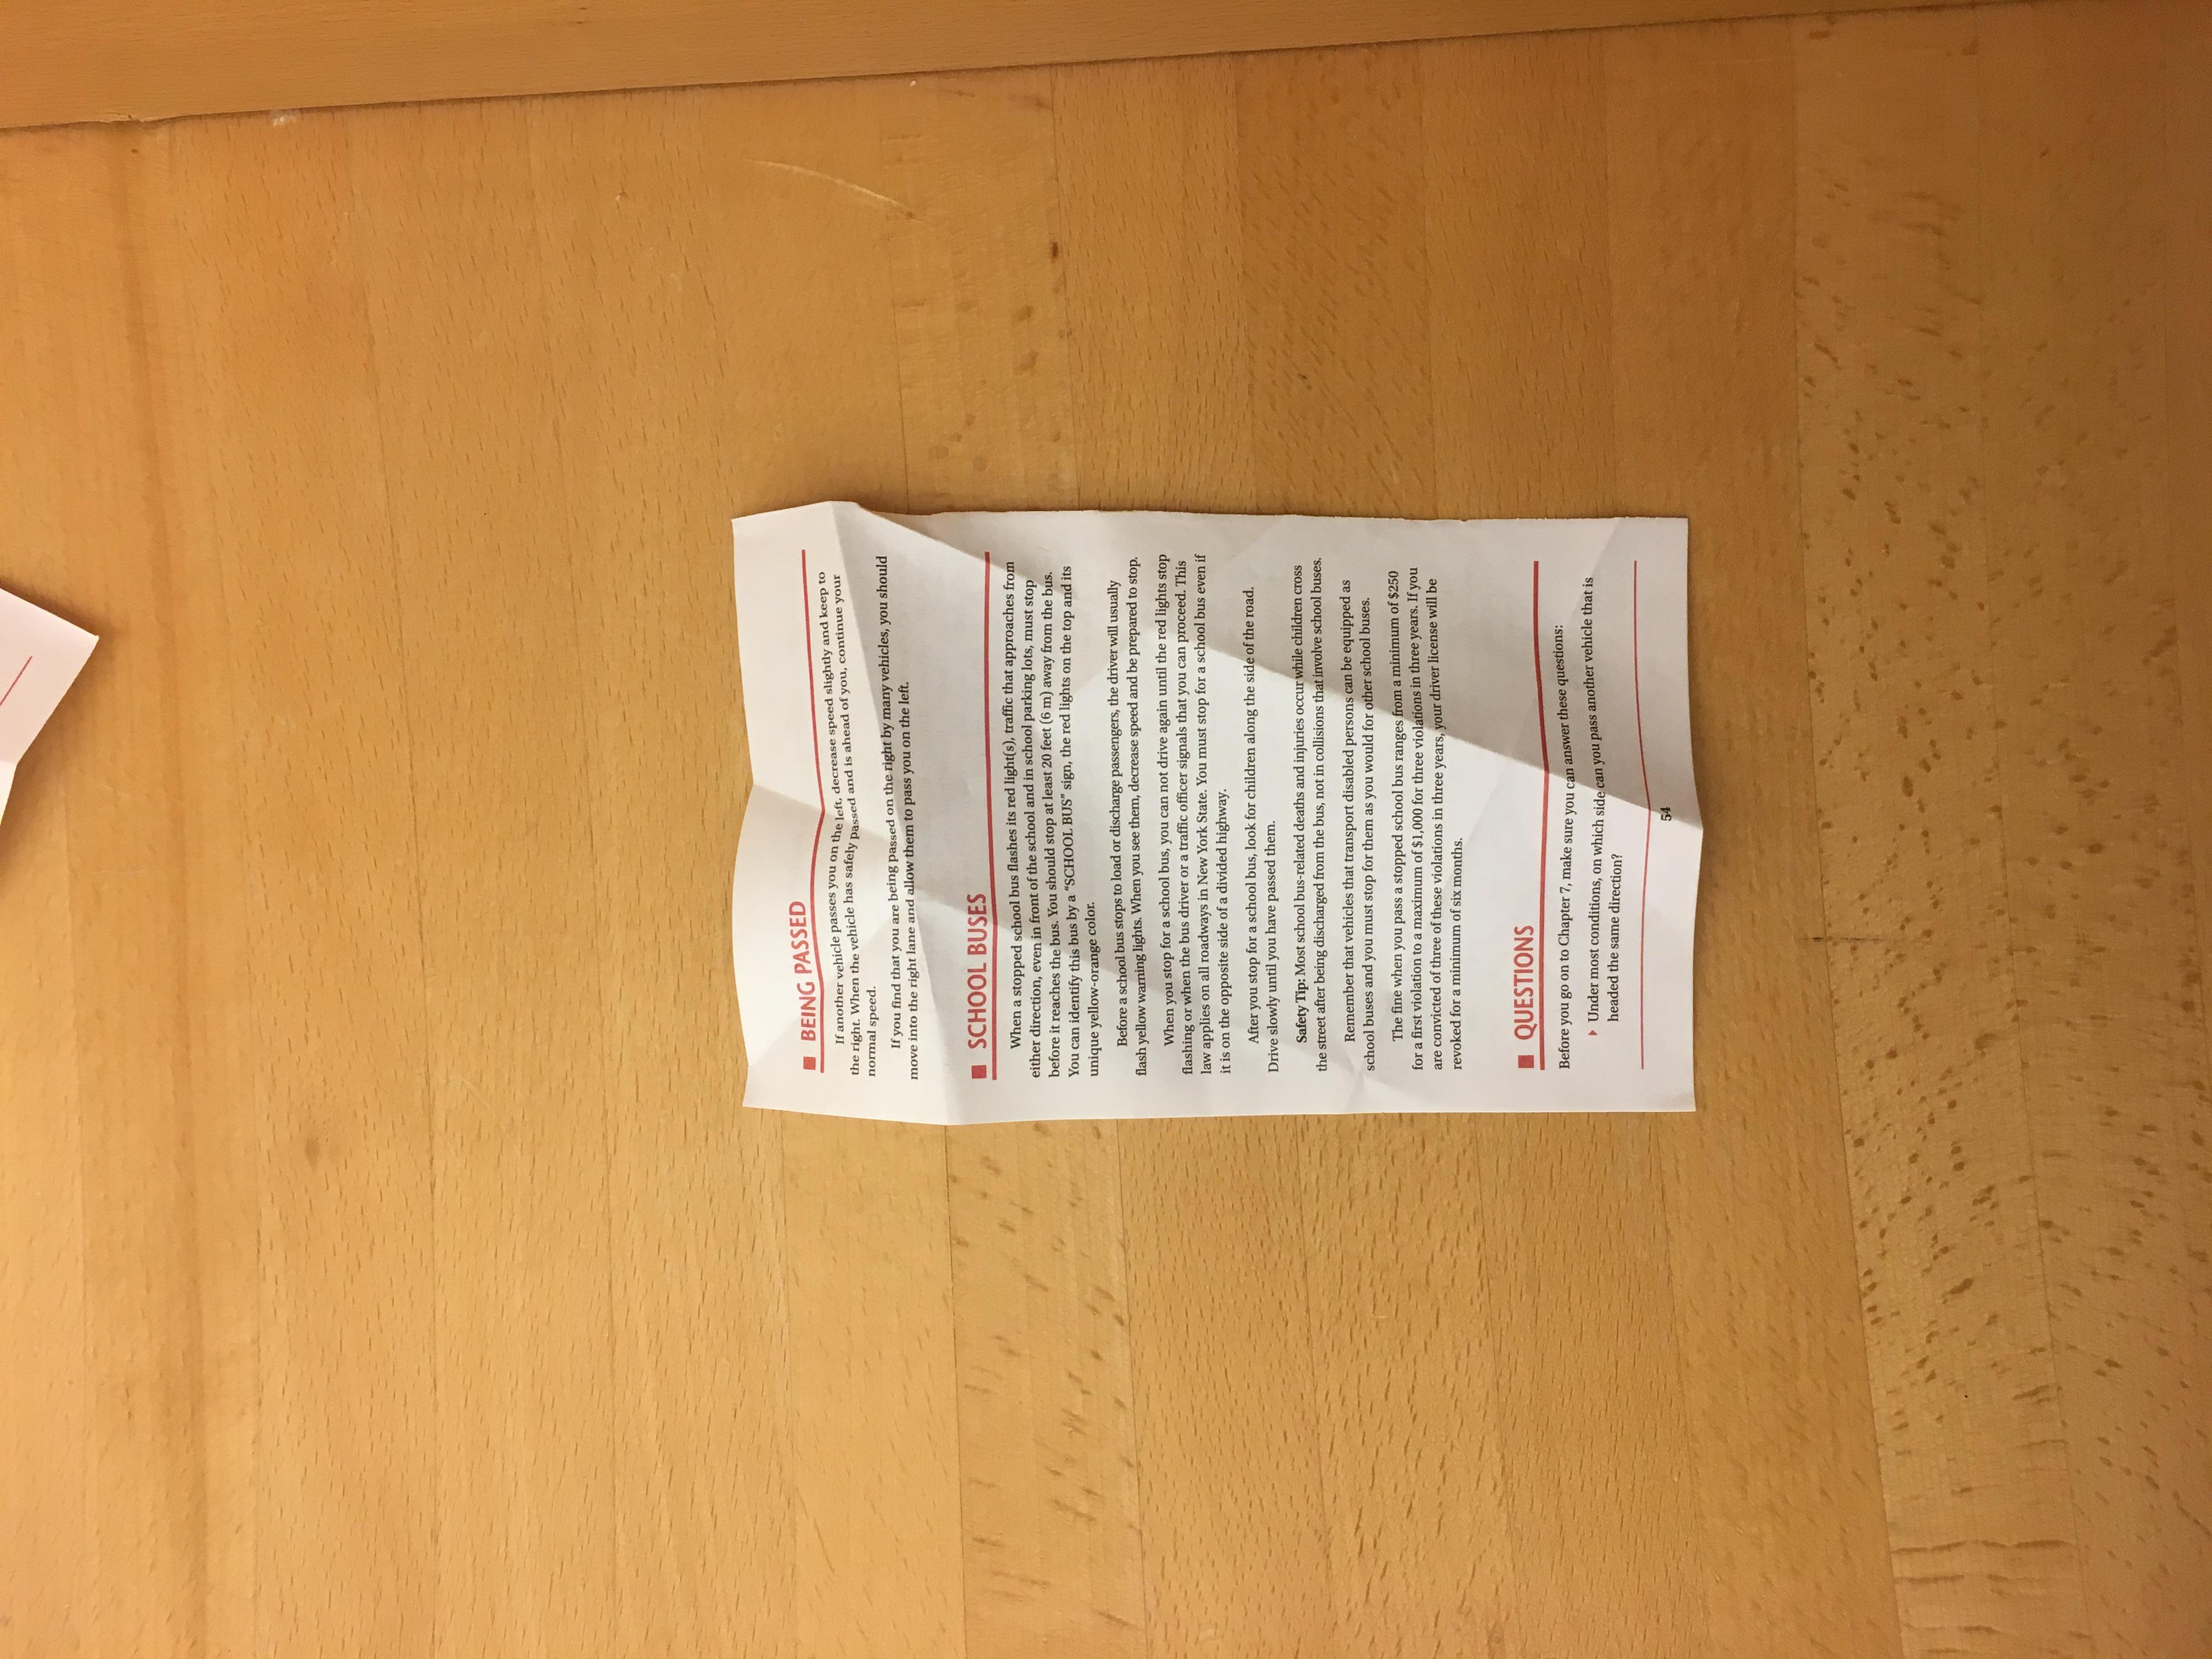paper: (526, 498, 1743, 1432)
